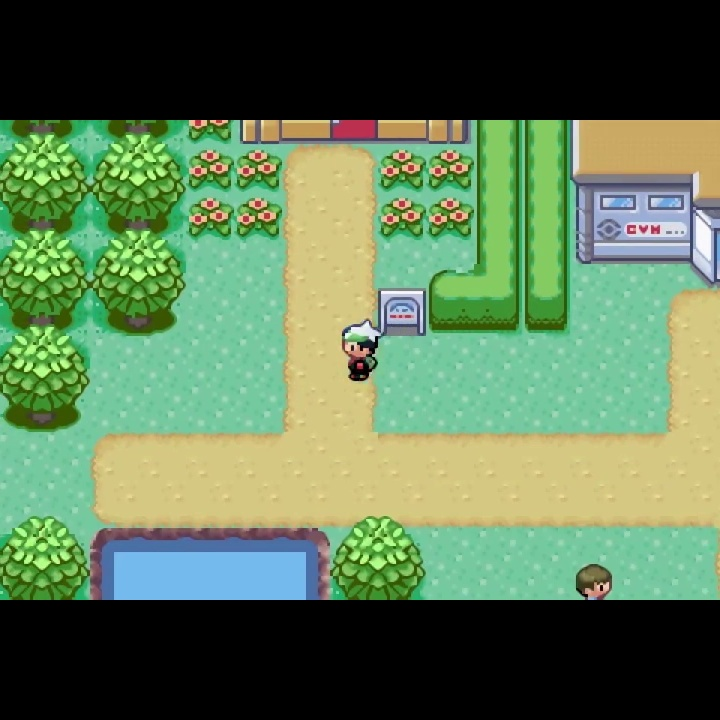gym: (568, 120, 719, 287)
npc: (340, 316, 384, 384), (575, 562, 615, 600)
wall: (91, 227, 186, 337), (1, 323, 90, 433), (1, 227, 91, 333), (1, 132, 94, 229), (92, 131, 185, 227), (331, 512, 428, 600), (1, 514, 89, 599), (1, 119, 91, 141), (92, 121, 186, 141)
